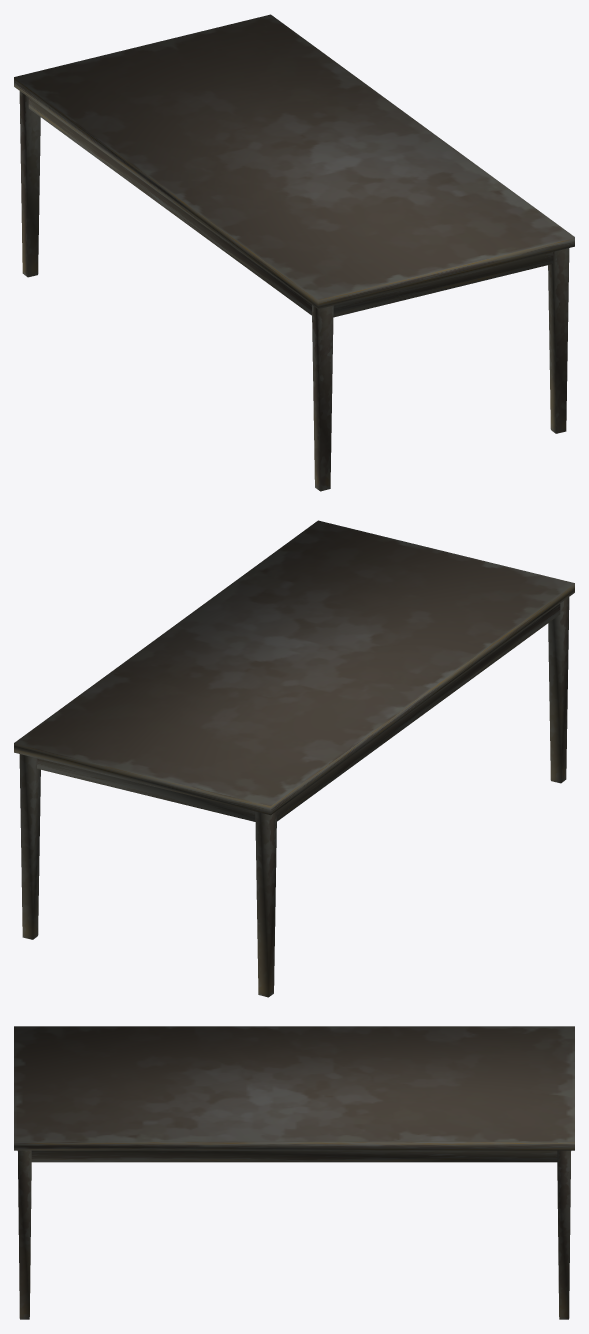
Rendered from table.fbx.
The picture shows the model from 3 angles, top to bottom: view 1: azimuth 30°, elevation 25°; view 2: azimuth 150°, elevation 25°; view 3: azimuth 270°, elevation 25°; orthographic projection. The views are drawn at different scales.
Parts seen in each view (by area): view 1: table_1_low; view 2: table_1_low; view 3: table_1_low.
Boxes of the visible parts, <box> form: table_1_low: <box>14,14,574,491</box>; table_1_low: <box>14,520,574,997</box>; table_1_low: <box>14,1026,574,1319</box>.
Bounding box in the file's own units: 195 × 142 × 400.
